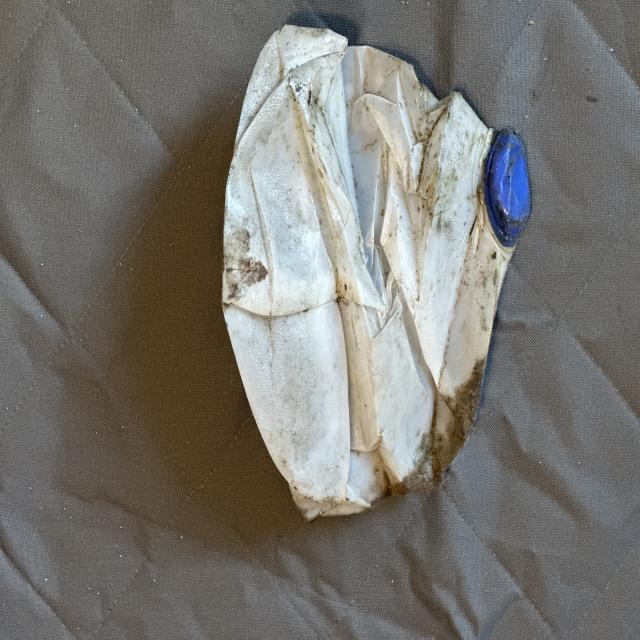milk-jug: (218, 24, 532, 522)
